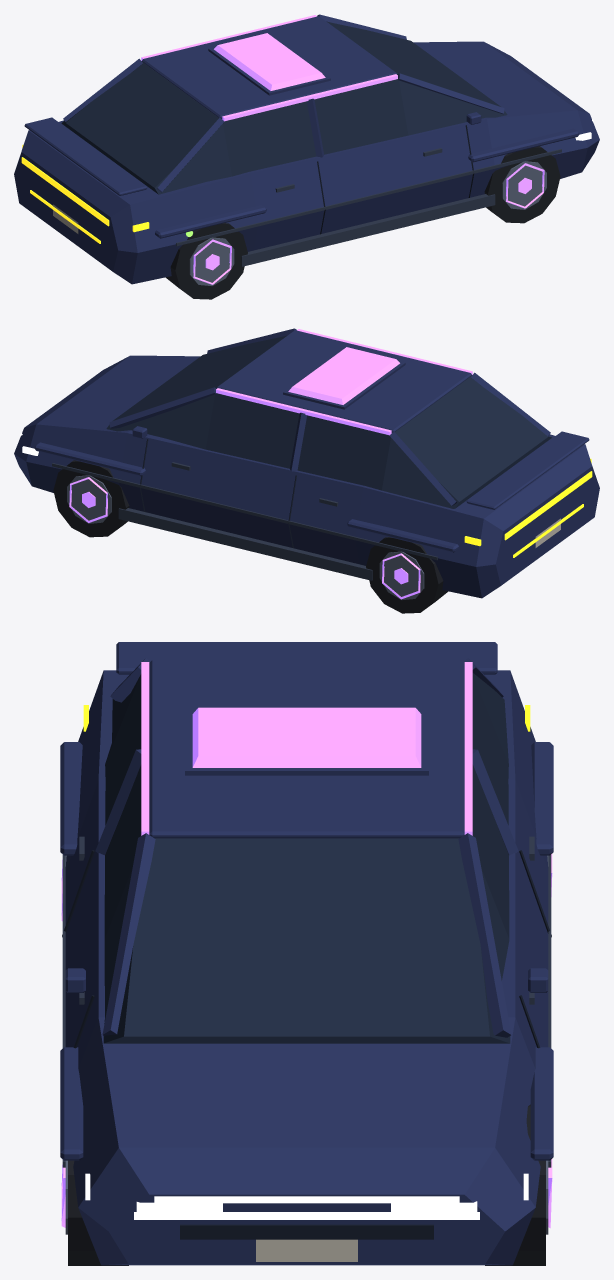
File: city_car.glb
3 views of the same model, one above another, from view 1: azimuth 30°, elevation 25°; view 2: azimuth 150°, elevation 25°; view 3: azimuth 270°, elevation 25° (orthographic). The views are drawn at different scales.
Visible parts, largest first — view 1: body, canopy, roof, underglow, body_crease, spoiler, wheel.002, wheel.003, body_crease.001, rim.002, rim.003, tail_light (+7 smaller); view 2: body, canopy, roof, underglow, body_crease, spoiler, wheel, wheel.001, rim, rim.001, tail_light, fender_flare (+6 smaller); view 3: body, canopy, roof, underglow, spoiler, light_bar, front_intake, window_pillar, window_pillar.003, fender_flare.001, fender_flare.003, front_plate (+10 smaller).
Boxes of the visible parts, left/top/right/bottom form: body: left=14, top=41, right=599, bottom=284; canopy: left=61, top=21, right=507, bottom=194; roof: left=142, top=16, right=397, bottom=118; underglow: left=141, top=15, right=544, bottom=284; body_crease: left=241, top=194, right=495, bottom=266; spoiler: left=24, top=117, right=147, bottom=195; wheel.002: left=165, top=223, right=247, bottom=299; wheel.003: left=484, top=146, right=560, bottom=223; body_crease.001: left=176, top=149, right=561, bottom=246; rim.002: left=189, top=237, right=234, bottom=285; rim.003: left=502, top=161, right=546, bottom=209; tail_light: left=21, top=144, right=149, bottom=243; body: left=14, top=355, right=599, bottom=598; canopy: left=106, top=335, right=551, bottom=508; roof: left=216, top=330, right=471, bottom=432; underglow: left=69, top=329, right=472, bottom=599; body_crease: left=52, top=463, right=437, bottom=580; spoiler: left=466, top=431, right=589, bottom=509; wheel: left=366, top=537, right=448, bottom=613; wheel.001: left=53, top=460, right=129, bottom=537; rim: left=379, top=551, right=424, bottom=599; rim.001: left=67, top=475, right=111, bottom=523; tail_light: left=464, top=458, right=592, bottom=557; fender_flare: left=347, top=519, right=458, bottom=552; body: left=65, top=670, right=548, bottom=1265; canopy: left=103, top=673, right=510, bottom=1043; roof: left=149, top=660, right=464, bottom=838; underglow: left=61, top=662, right=552, bottom=1228; spoiler: left=116, top=642, right=497, bottom=674; light_bar: left=85, top=1173, right=528, bottom=1219; front_intake: left=180, top=1224, right=433, bottom=1239; window_pillar: left=458, top=833, right=511, bottom=1037; window_pillar.003: left=102, top=833, right=155, bottom=1036; fender_flare.001: left=530, top=1047, right=553, bottom=1160; fender_flare.003: left=60, top=1047, right=83, bottom=1160; front_plate: left=256, top=1239, right=357, bottom=1261.
Size of the model in its own units: 4.42 by 1.46 by 1.94.
